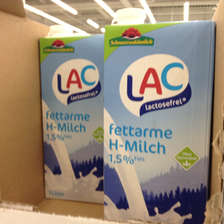milk: (104, 9, 216, 223), (38, 24, 105, 208)
